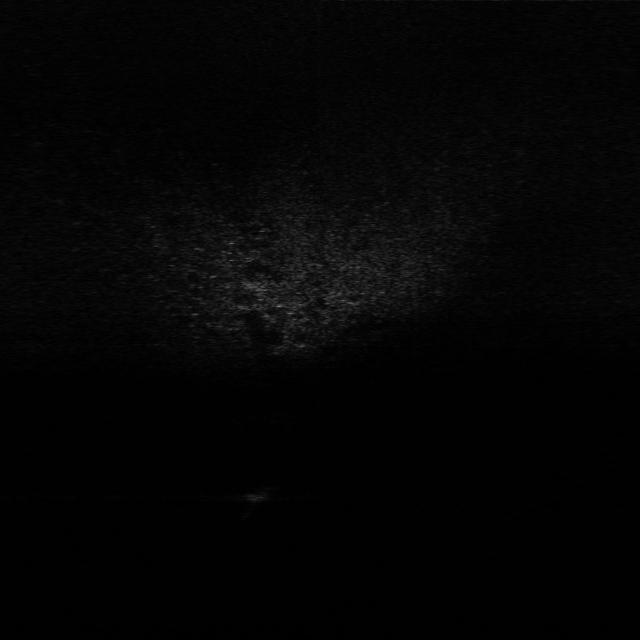cylinder: (243, 486, 269, 506)
